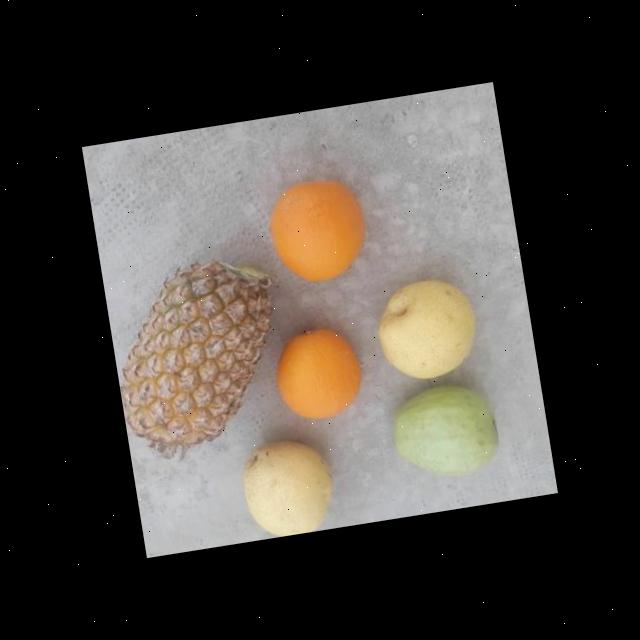guava: (388, 377, 507, 485)
orange: (260, 172, 378, 292), (268, 323, 372, 427)
pear: (370, 275, 490, 386), (232, 431, 346, 542)
pineapple: (104, 252, 300, 460)
